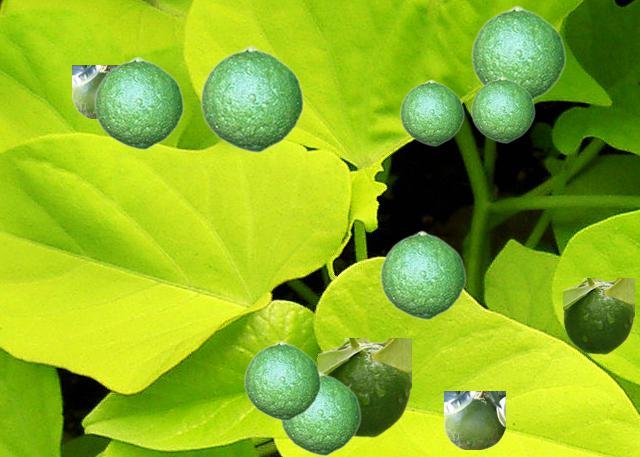dalandan: (199, 45, 303, 152), (470, 5, 565, 100), (318, 338, 410, 436), (93, 56, 183, 149), (379, 230, 465, 319), (280, 371, 360, 455), (243, 340, 320, 420), (563, 278, 633, 353), (470, 76, 534, 142), (399, 79, 463, 145), (444, 391, 504, 448), (72, 65, 115, 117)
